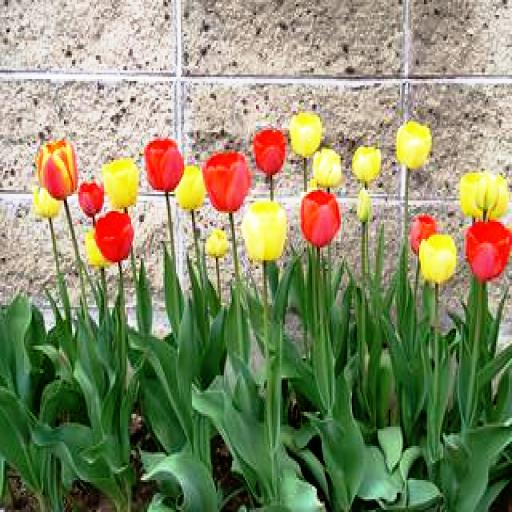tulip: (202, 152, 251, 211), (244, 198, 286, 262), (464, 220, 510, 277), (142, 134, 184, 196), (461, 168, 509, 222), (38, 139, 78, 198), (301, 188, 339, 250), (102, 158, 140, 209), (420, 234, 458, 284), (96, 211, 134, 256), (396, 120, 430, 166), (288, 111, 322, 156), (253, 128, 285, 175), (315, 149, 341, 190), (352, 143, 381, 179)
